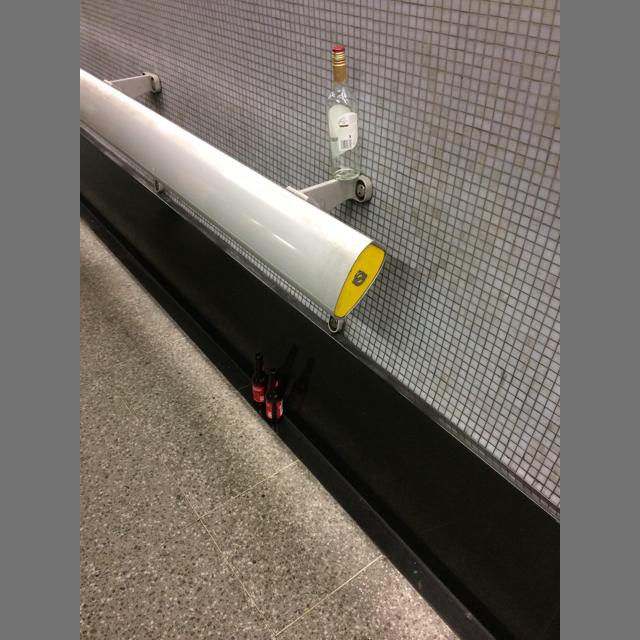litter: (326, 46, 361, 180), (265, 367, 283, 423), (252, 352, 269, 407)
